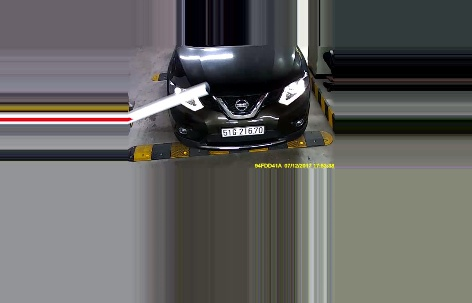plate: (220, 124, 266, 136)
